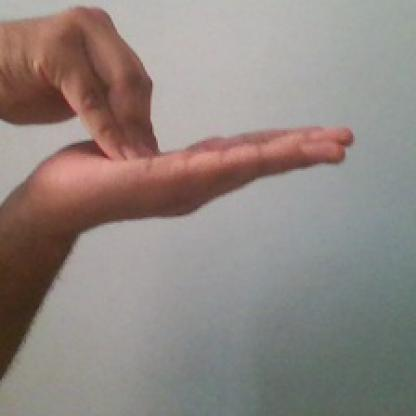Z: (11, 5, 356, 222)
